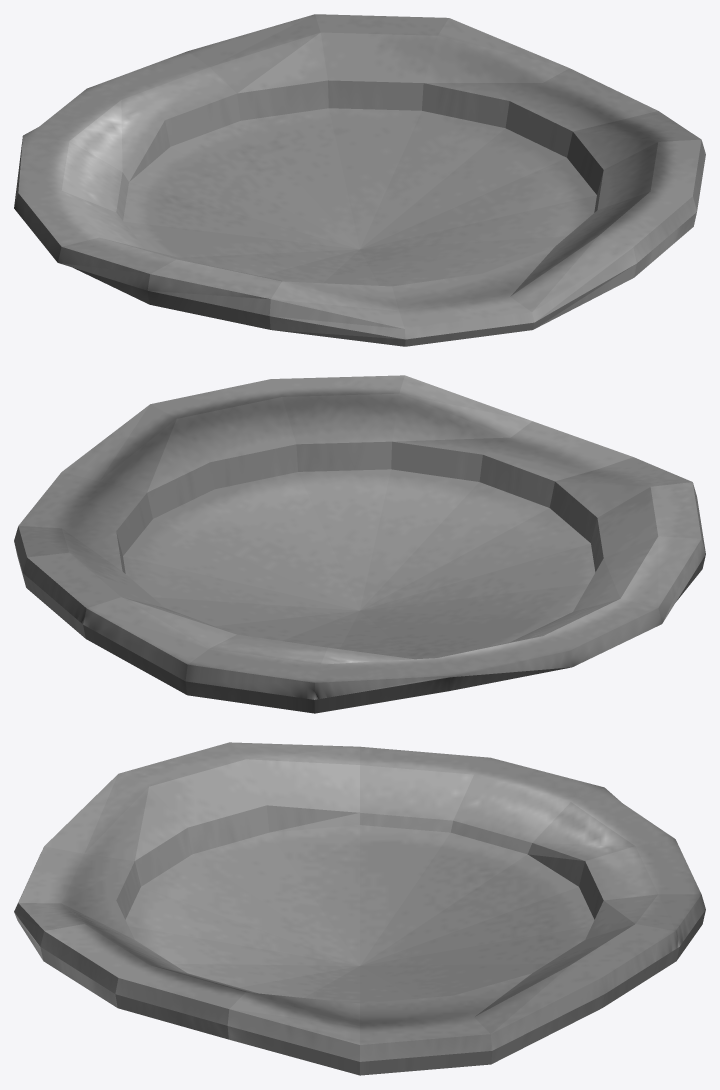
The model's file is tavern_plate.dae.
3 renders of one model, top to bottom at view 1: azimuth 30°, elevation 25°; view 2: azimuth 150°, elevation 25°; view 3: azimuth 270°, elevation 25°, orthographic.
Visible parts, largest first — view 1: Default_Layer; view 2: Default_Layer; view 3: Default_Layer.
Boxes of the visible parts, x1,y1,x2,y2 form: Default_Layer: (14, 14, 705, 346); Default_Layer: (14, 375, 705, 713); Default_Layer: (14, 742, 705, 1075).
Bounding box in the file's own units: 1.39 × 0.211 × 1.39.
